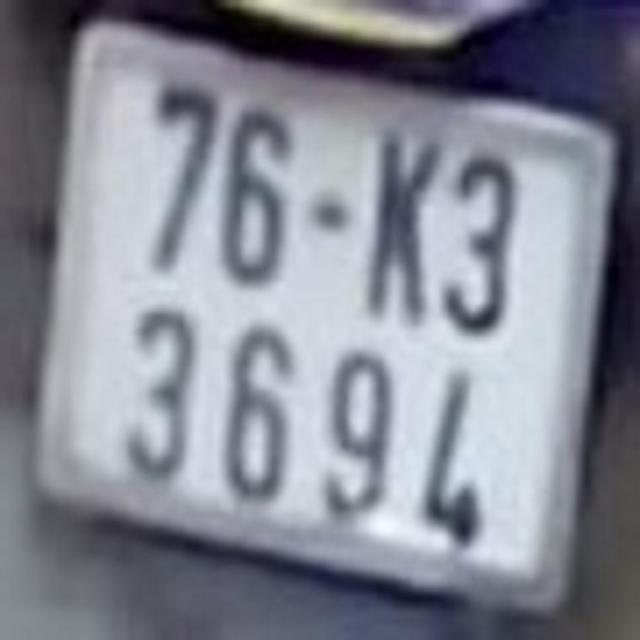3: (449, 147, 513, 328), (131, 305, 193, 482)
4: (422, 359, 486, 554)
6: (219, 98, 296, 288), (227, 321, 292, 504)
7: (139, 83, 210, 271)
9: (322, 342, 392, 524)
K: (369, 131, 436, 327)
